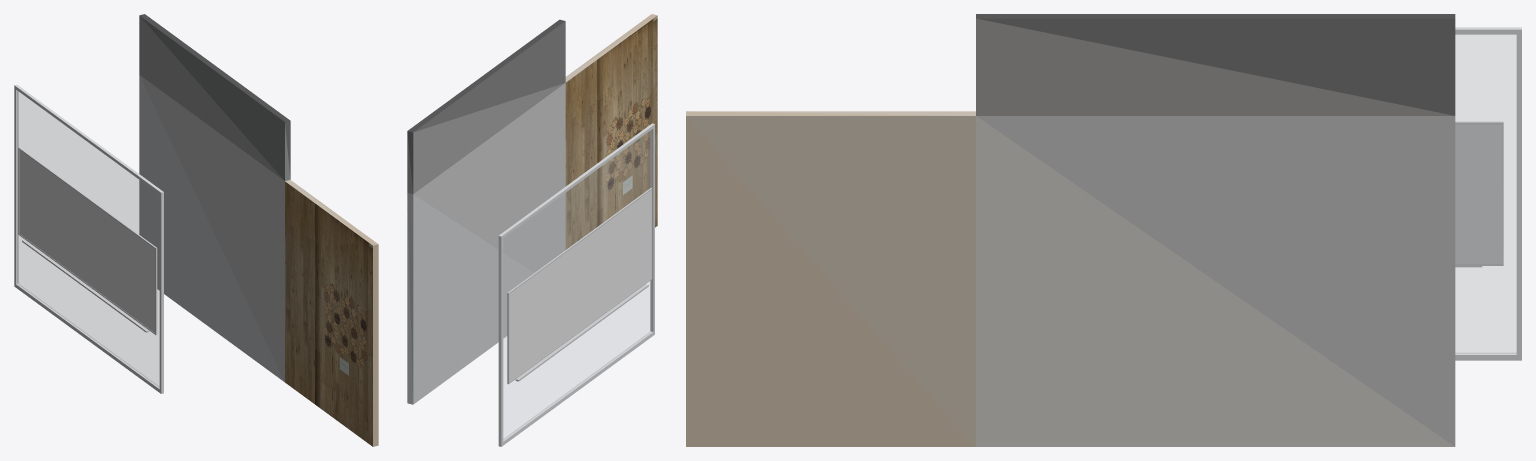
The model's file is room_end_wall_l.glb.
The picture shows the model from 3 angles, left to right: view 1: azimuth 30°, elevation 25°; view 2: azimuth 150°, elevation 25°; view 3: azimuth 270°, elevation 25°; orthographic projection. The views are drawn at different scales.
Visible parts, largest first — view 1: paint_matte_texture_0, paint_matte_11, paint_matte_21, paint_matte_16, paint_matte_27, paint_matte_5, paint_matte_2, paint_matte_23, paint_matte_15, paint_matte_9, paint_matte_0; view 2: paint_matte_21, paint_matte_11, paint_matte_texture_0, paint_matte_16, paint_matte_27, paint_matte_2, paint_matte_5, paint_matte_23, paint_matte_15, paint_matte_0, paint_matte_6, paint_matte_14 (+2 smaller); view 3: paint_matte_7, paint_matte_12, paint_matte_10, paint_matte_8, paint_matte_1, paint_matte_4, paint_matte_21, paint_matte_24, paint_matte_23, paint_matte_0, paint_matte_13.
Part boxes in pixels (box(x1,y1,x2,y2)): paint_matte_texture_0: box(285, 181, 372, 446); paint_matte_11: box(139, 75, 284, 381); paint_matte_21: box(17, 91, 159, 387); paint_matte_16: box(139, 75, 284, 381); paint_matte_27: box(19, 150, 155, 332); paint_matte_5: box(139, 16, 284, 180); paint_matte_2: box(140, 16, 284, 180); paint_matte_23: box(14, 84, 163, 393); paint_matte_15: box(18, 147, 157, 335); paint_matte_9: box(373, 244, 378, 446); paint_matte_0: box(139, 14, 289, 121); paint_matte_21: box(503, 130, 651, 439); paint_matte_11: box(413, 83, 565, 272); paint_matte_texture_0: box(565, 15, 657, 249); paint_matte_16: box(413, 194, 533, 404); paint_matte_27: box(509, 190, 651, 381); paint_matte_2: box(414, 21, 565, 131); paint_matte_5: box(413, 83, 564, 193); paint_matte_23: box(498, 123, 654, 446); paint_matte_15: box(507, 188, 652, 384); paint_matte_0: box(408, 19, 564, 132); paint_matte_6: box(407, 193, 413, 402); paint_matte_14: box(407, 200, 413, 404); paint_matte_7: box(977, 116, 1455, 446); paint_matte_12: box(976, 116, 1454, 446); paint_matte_10: box(686, 111, 975, 446); paint_matte_8: box(686, 116, 975, 446); paint_matte_1: box(978, 18, 1455, 115); paint_matte_4: box(976, 18, 1454, 115); paint_matte_21: box(1455, 35, 1516, 353); paint_matte_24: box(1455, 124, 1501, 263); paint_matte_23: box(1455, 27, 1521, 360); paint_matte_0: box(976, 14, 1455, 18); paint_matte_13: box(694, 111, 975, 115).
Size of the model in its own units: 2.03 by 4.4 by 7.78.
29 materials, 1 textured.
